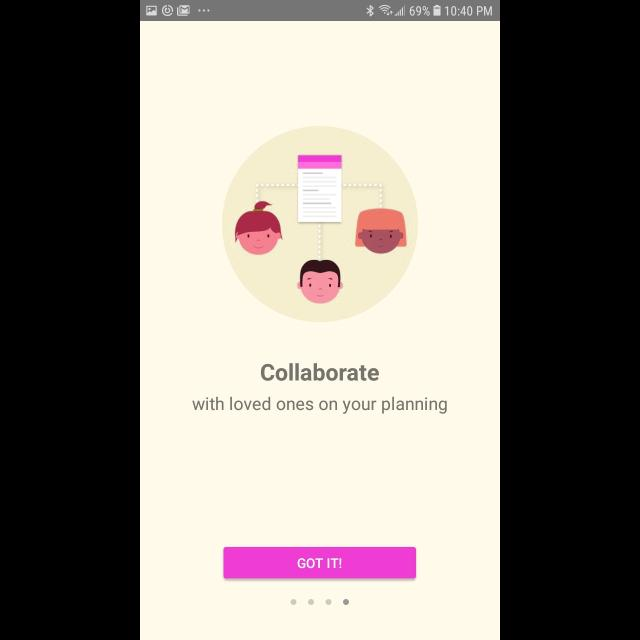image: (222, 125, 418, 322)
pageindicator: (290, 598, 350, 606)
text: (192, 397, 448, 415), (261, 363, 379, 381)
textbutton: (224, 547, 416, 579)
uppertaskbar: (140, 1, 500, 22)
